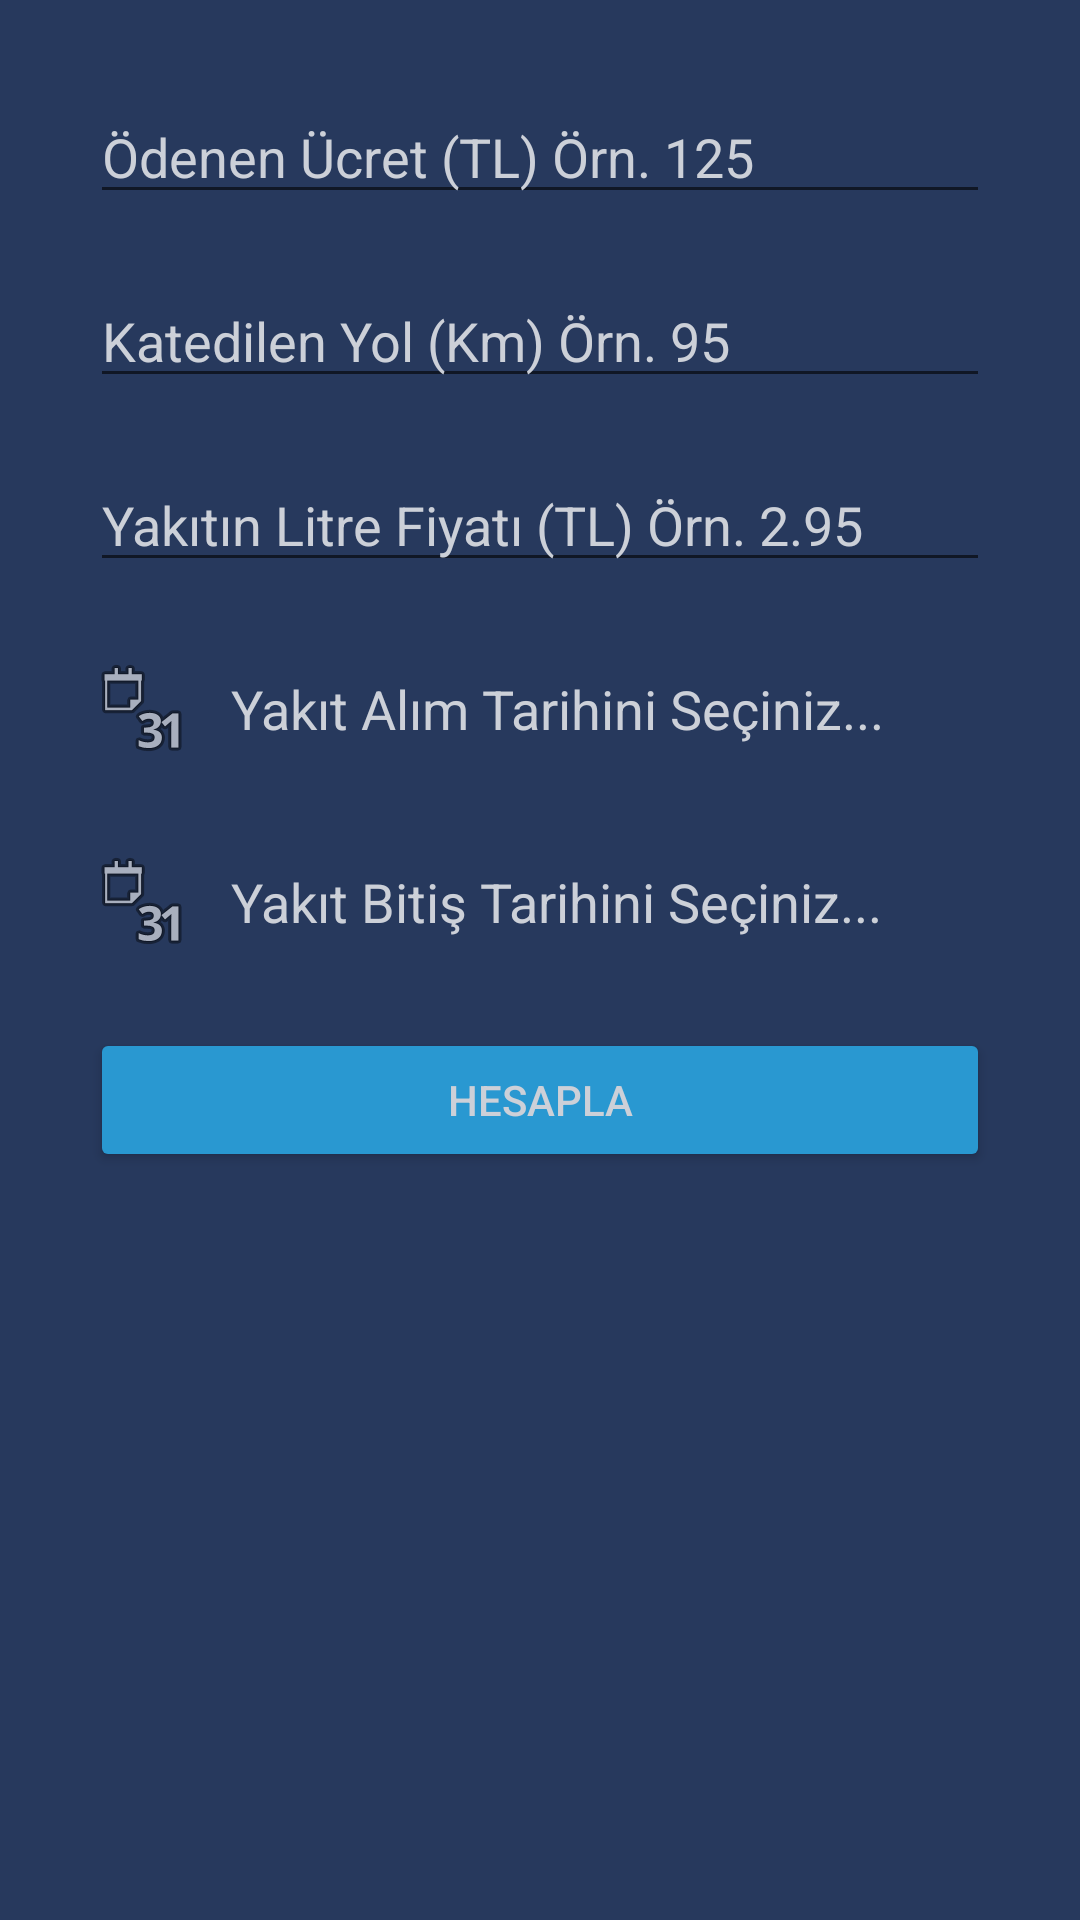

Screen size 1080w x 1920h. Icon name, then its box in pixels as (x1, y1, x2, y2):
month: (102, 665, 181, 751), (102, 858, 181, 944)
